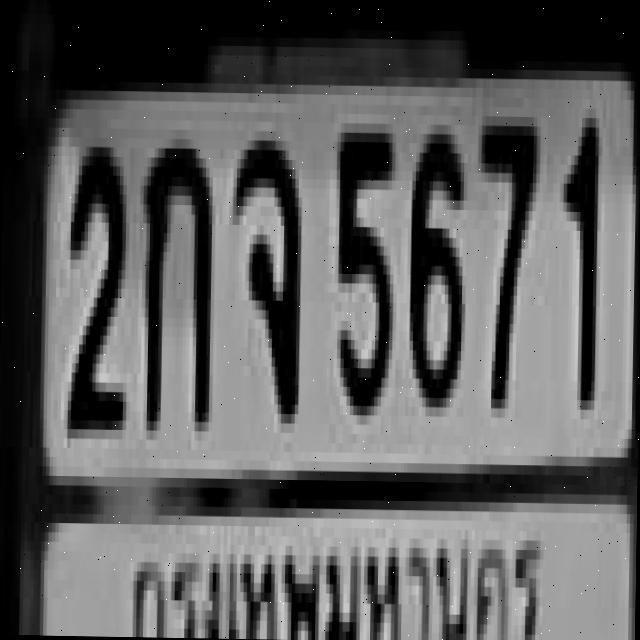1: (556, 107, 596, 400)
10GorGai: (136, 128, 210, 422)
17ChorChan: (229, 130, 299, 414)
2: (64, 137, 124, 420)
5: (330, 122, 390, 406)
6: (405, 124, 461, 398)
7: (474, 111, 534, 394)
Bangkok: (119, 518, 545, 640)
